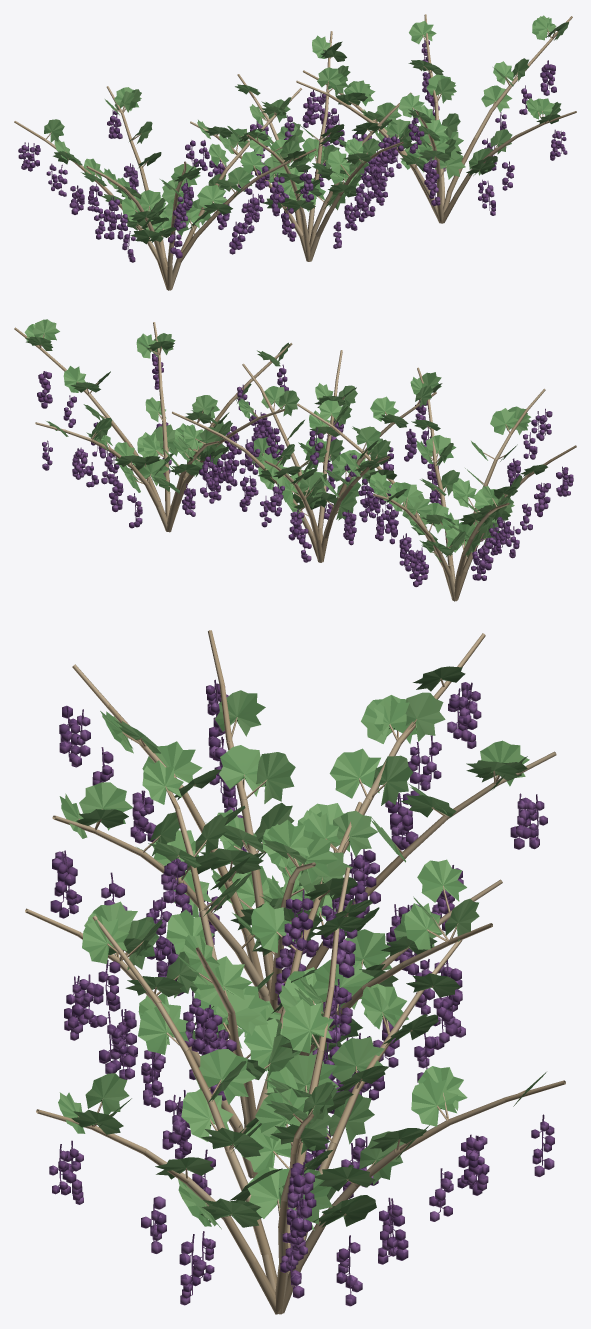
The model's file is groseillier_cassis_mur.glb.
The picture shows the model from 3 angles, top to bottom: view 1: azimuth 30°, elevation 25°; view 2: azimuth 150°, elevation 25°; view 3: azimuth 270°, elevation 25°; orthographic projection. The views are drawn at different scales.
Visible parts, largest first — view 1: Groseillier_Feuilles, Groseillier_Fruits, Groseillier_Tiges; view 2: Groseillier_Feuilles, Groseillier_Fruits, Groseillier_Tiges; view 3: Groseillier_Feuilles, Groseillier_Fruits, Groseillier_Tiges.
Part boxes in pixels (left/top/right/bottom): Groseillier_Feuilles: left=44, top=15, right=568, bottom=244; Groseillier_Fruits: left=18, top=40, right=567, bottom=262; Groseillier_Tiges: left=14, top=14, right=576, bottom=290; Groseillier_Feuilles: left=24, top=319, right=547, bottom=562; Groseillier_Fruits: left=37, top=353, right=573, bottom=587; Groseillier_Tiges: left=14, top=322, right=576, bottom=601; Groseillier_Feuilles: left=58, top=666, right=546, bottom=1230; Groseillier_Fruits: left=49, top=679, right=554, bottom=1306; Groseillier_Tiges: left=25, top=630, right=565, bottom=1314.
Bounding box in the file's own units: 2.6 × 0.8397 × 1.18.
